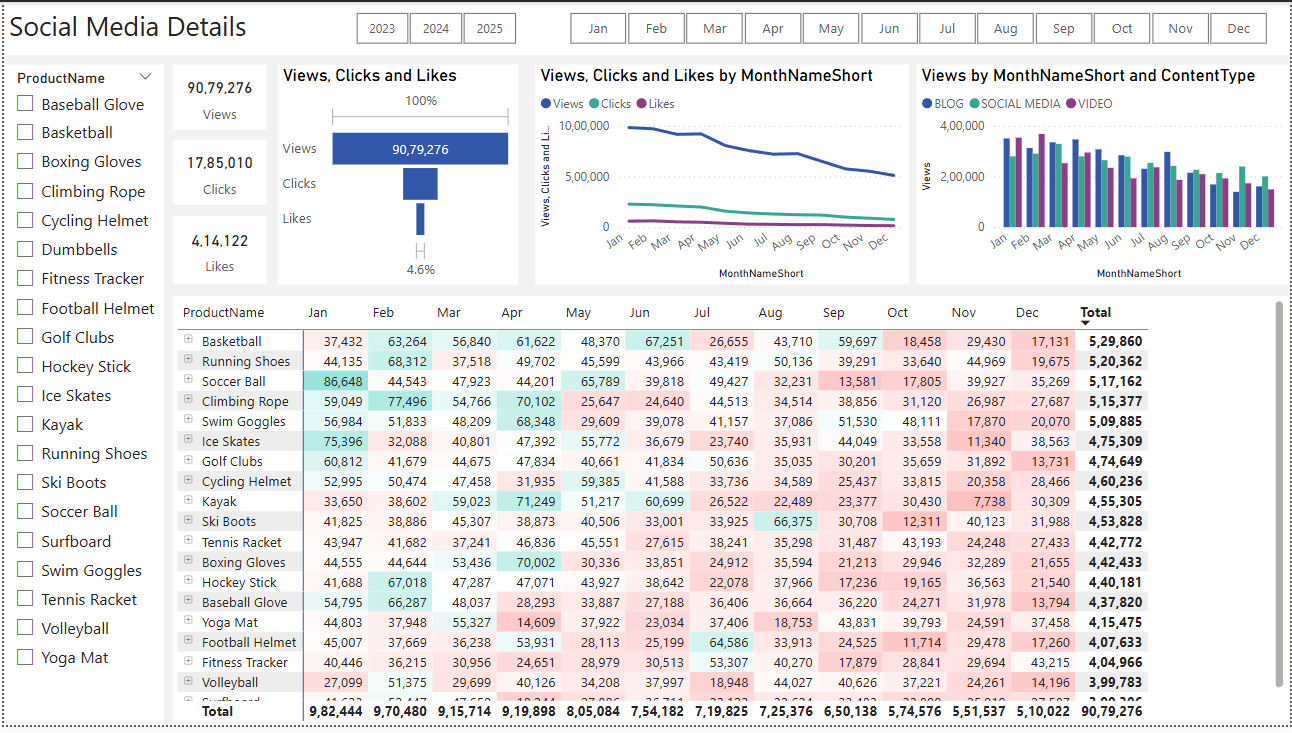

The dashboard page shown, as its layout file describes it:
{"tool":"powerbi","page":{"name":"Social Media Details","canvas":[1280,720],"ordinal":2},"visuals":[{"type":"textbox","box":[0,0,1280,52.6],"z":0},{"type":"slicer","fields":{"Values":["dim_products.ProductName"]},"box":[0,61.6,159.5,658.5],"z":1000},{"type":"lineChart","fields":{"Y":["_Calculations.Views","_Calculations.Clicks","_Calculations.Likes"],"Category":["Calendar.MonthNameShort"]},"box":[528.5,61.9,371.6,218.8],"z":2000},{"type":"funnel","fields":{"Y":["_Calculations.Views","_Calculations.Clicks","_Calculations.Likes"]},"box":[272.5,61.9,239.5,218.8],"z":3000},{"type":"card","fields":{"Values":["_Calculations.Views"]},"box":[168.3,61.9,93.9,65],"z":4000},{"type":"card","fields":{"Values":["_Calculations.Clicks"]},"box":[168.3,137.3,93.9,65],"z":5000},{"type":"card","fields":{"Values":["_Calculations.Likes"]},"box":[168.3,212.6,93.9,68.1],"z":6000},{"type":"slicer","fields":{"Values":["Calendar.MonthNameShort"]},"box":[536.8,4.1,743.2,44.4],"z":7000},{"type":"slicer","fields":{"Values":["Calendar.Year"]},"box":[324.1,4.1,208.5,44.4],"z":8000},{"type":"pivotTable","fields":{"Rows":["dim_products.ProductName","fact_engagement.ContentType"],"Values":["_Calculations.Views"],"Columns":["Calendar.MonthNameShort"]},"box":[168.3,292.1,1110.7,428.4],"z":9000},{"type":"clusteredColumnChart","fields":{"Category":["Calendar.MonthNameShort"],"Series":["fact_engagement.ContentType"],"Y":["_Calculations.Views"]},"box":[908.4,61.9,370.6,218.8],"z":10000}]}

Visuals, with their boxes in screenshot pixels (x1, y1, x2, y2), scaled from the page's 1280x720 canvas onto the 1292x733 screenshot:
textbox: [0,0,1291,54]
slicer - dim_products.ProductName: [0,63,161,732]
lineChart - _Calculations.Views x _Calculations.Clicks: [533,63,909,286]
funnel - _Calculations.Views x _Calculations.Clicks: [275,63,517,286]
card - _Calculations.Views: [170,63,265,129]
card - _Calculations.Clicks: [170,140,265,206]
card - _Calculations.Likes: [170,216,265,286]
slicer - Calendar.MonthNameShort: [542,4,1291,49]
slicer - Calendar.Year: [327,4,538,49]
pivotTable - dim_products.ProductName x fact_engagement.ContentType: [170,297,1291,732]
clusteredColumnChart - Calendar.MonthNameShort x fact_engagement.ContentType: [917,63,1291,286]
